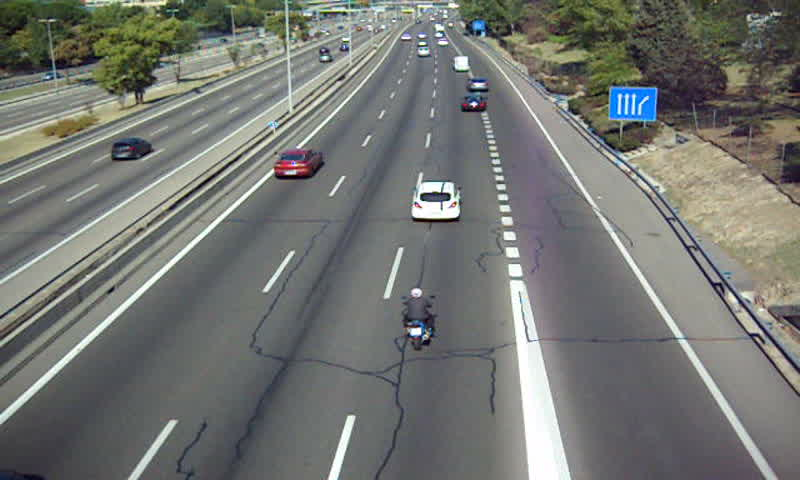car: (413, 181, 461, 221), (273, 150, 323, 179), (460, 95, 488, 112), (467, 77, 490, 93)
motorcycle: (399, 288, 435, 351)
van: (453, 55, 470, 71)
